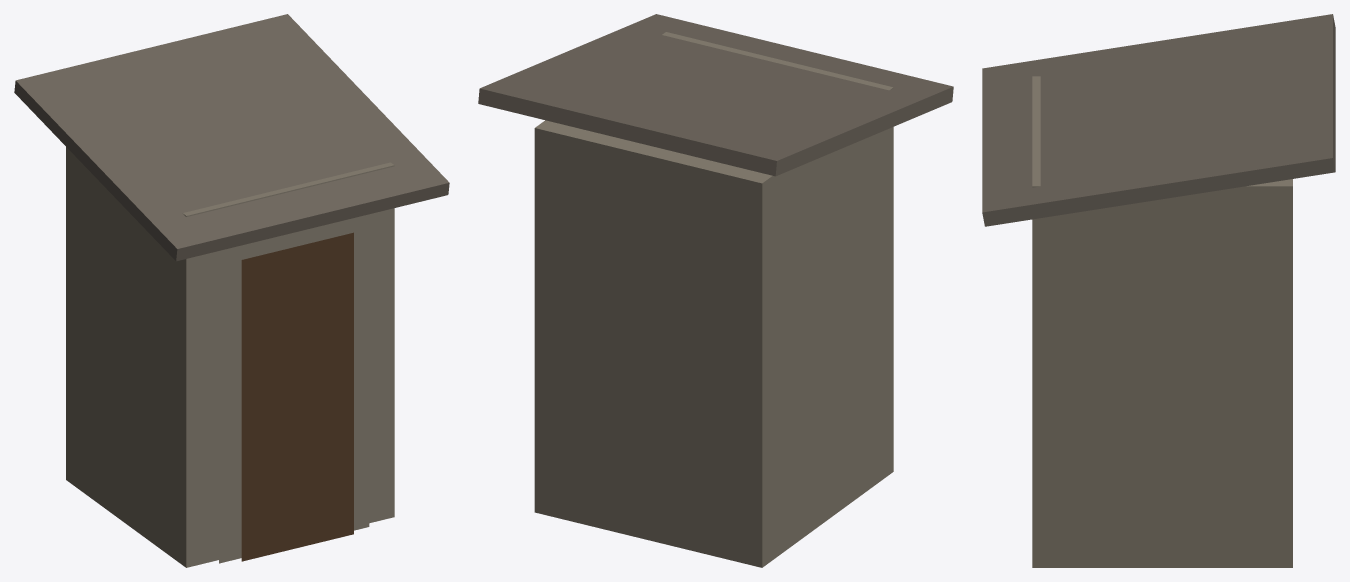
Rendered from outhouse.glb.
3 renders of one model, left to right at view 1: azimuth 30°, elevation 25°; view 2: azimuth 150°, elevation 25°; view 3: azimuth 270°, elevation 25°, orthographic. The views are drawn at different scales.
Parts seen in each view (by area): view 1: outhouse; view 2: outhouse; view 3: outhouse.
Boxes of the visible parts, box(x1,y1,x2,y2) form: outhouse: box(14, 14, 449, 567); outhouse: box(478, 14, 953, 567); outhouse: box(982, 14, 1335, 567).
Size of the model in its own units: 1.7 by 2.35 by 1.76.
